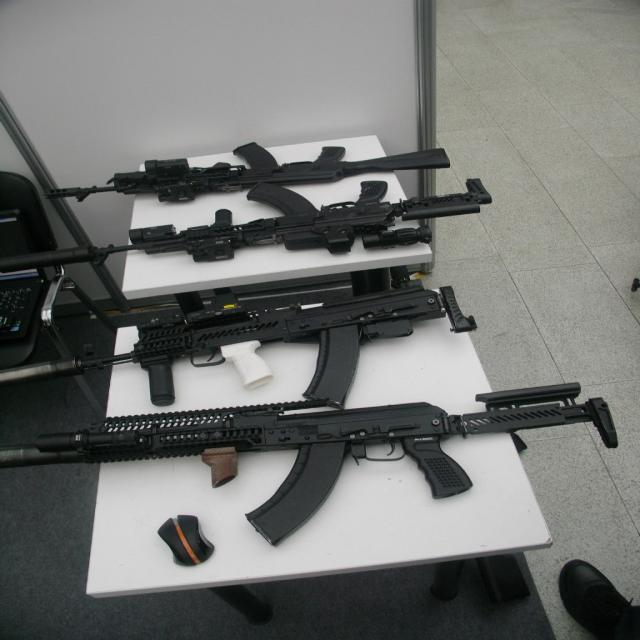firearm: (0, 381, 620, 547), (0, 283, 479, 409), (0, 177, 493, 274), (43, 140, 452, 204)
